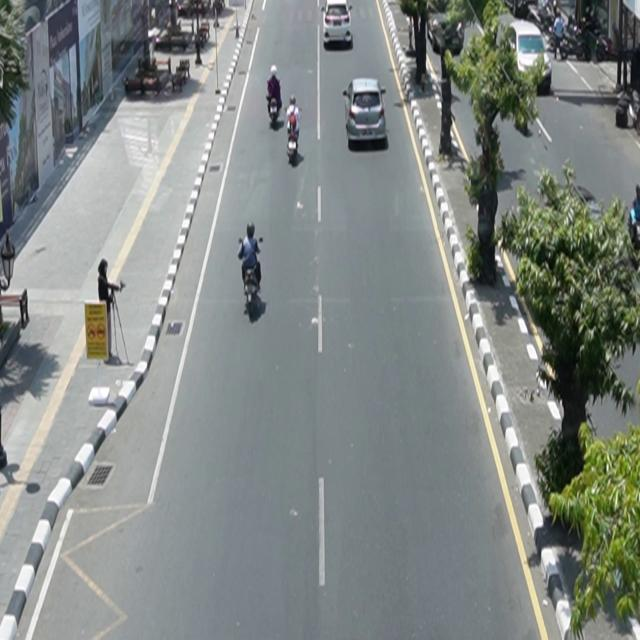car: (343, 78, 388, 146), (323, 1, 354, 47)
